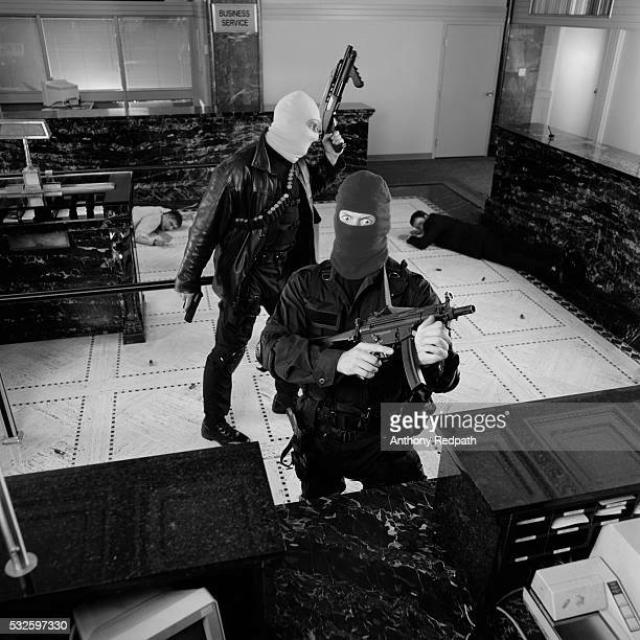gun: (289, 302, 470, 393), (317, 42, 364, 154), (176, 288, 204, 321)
